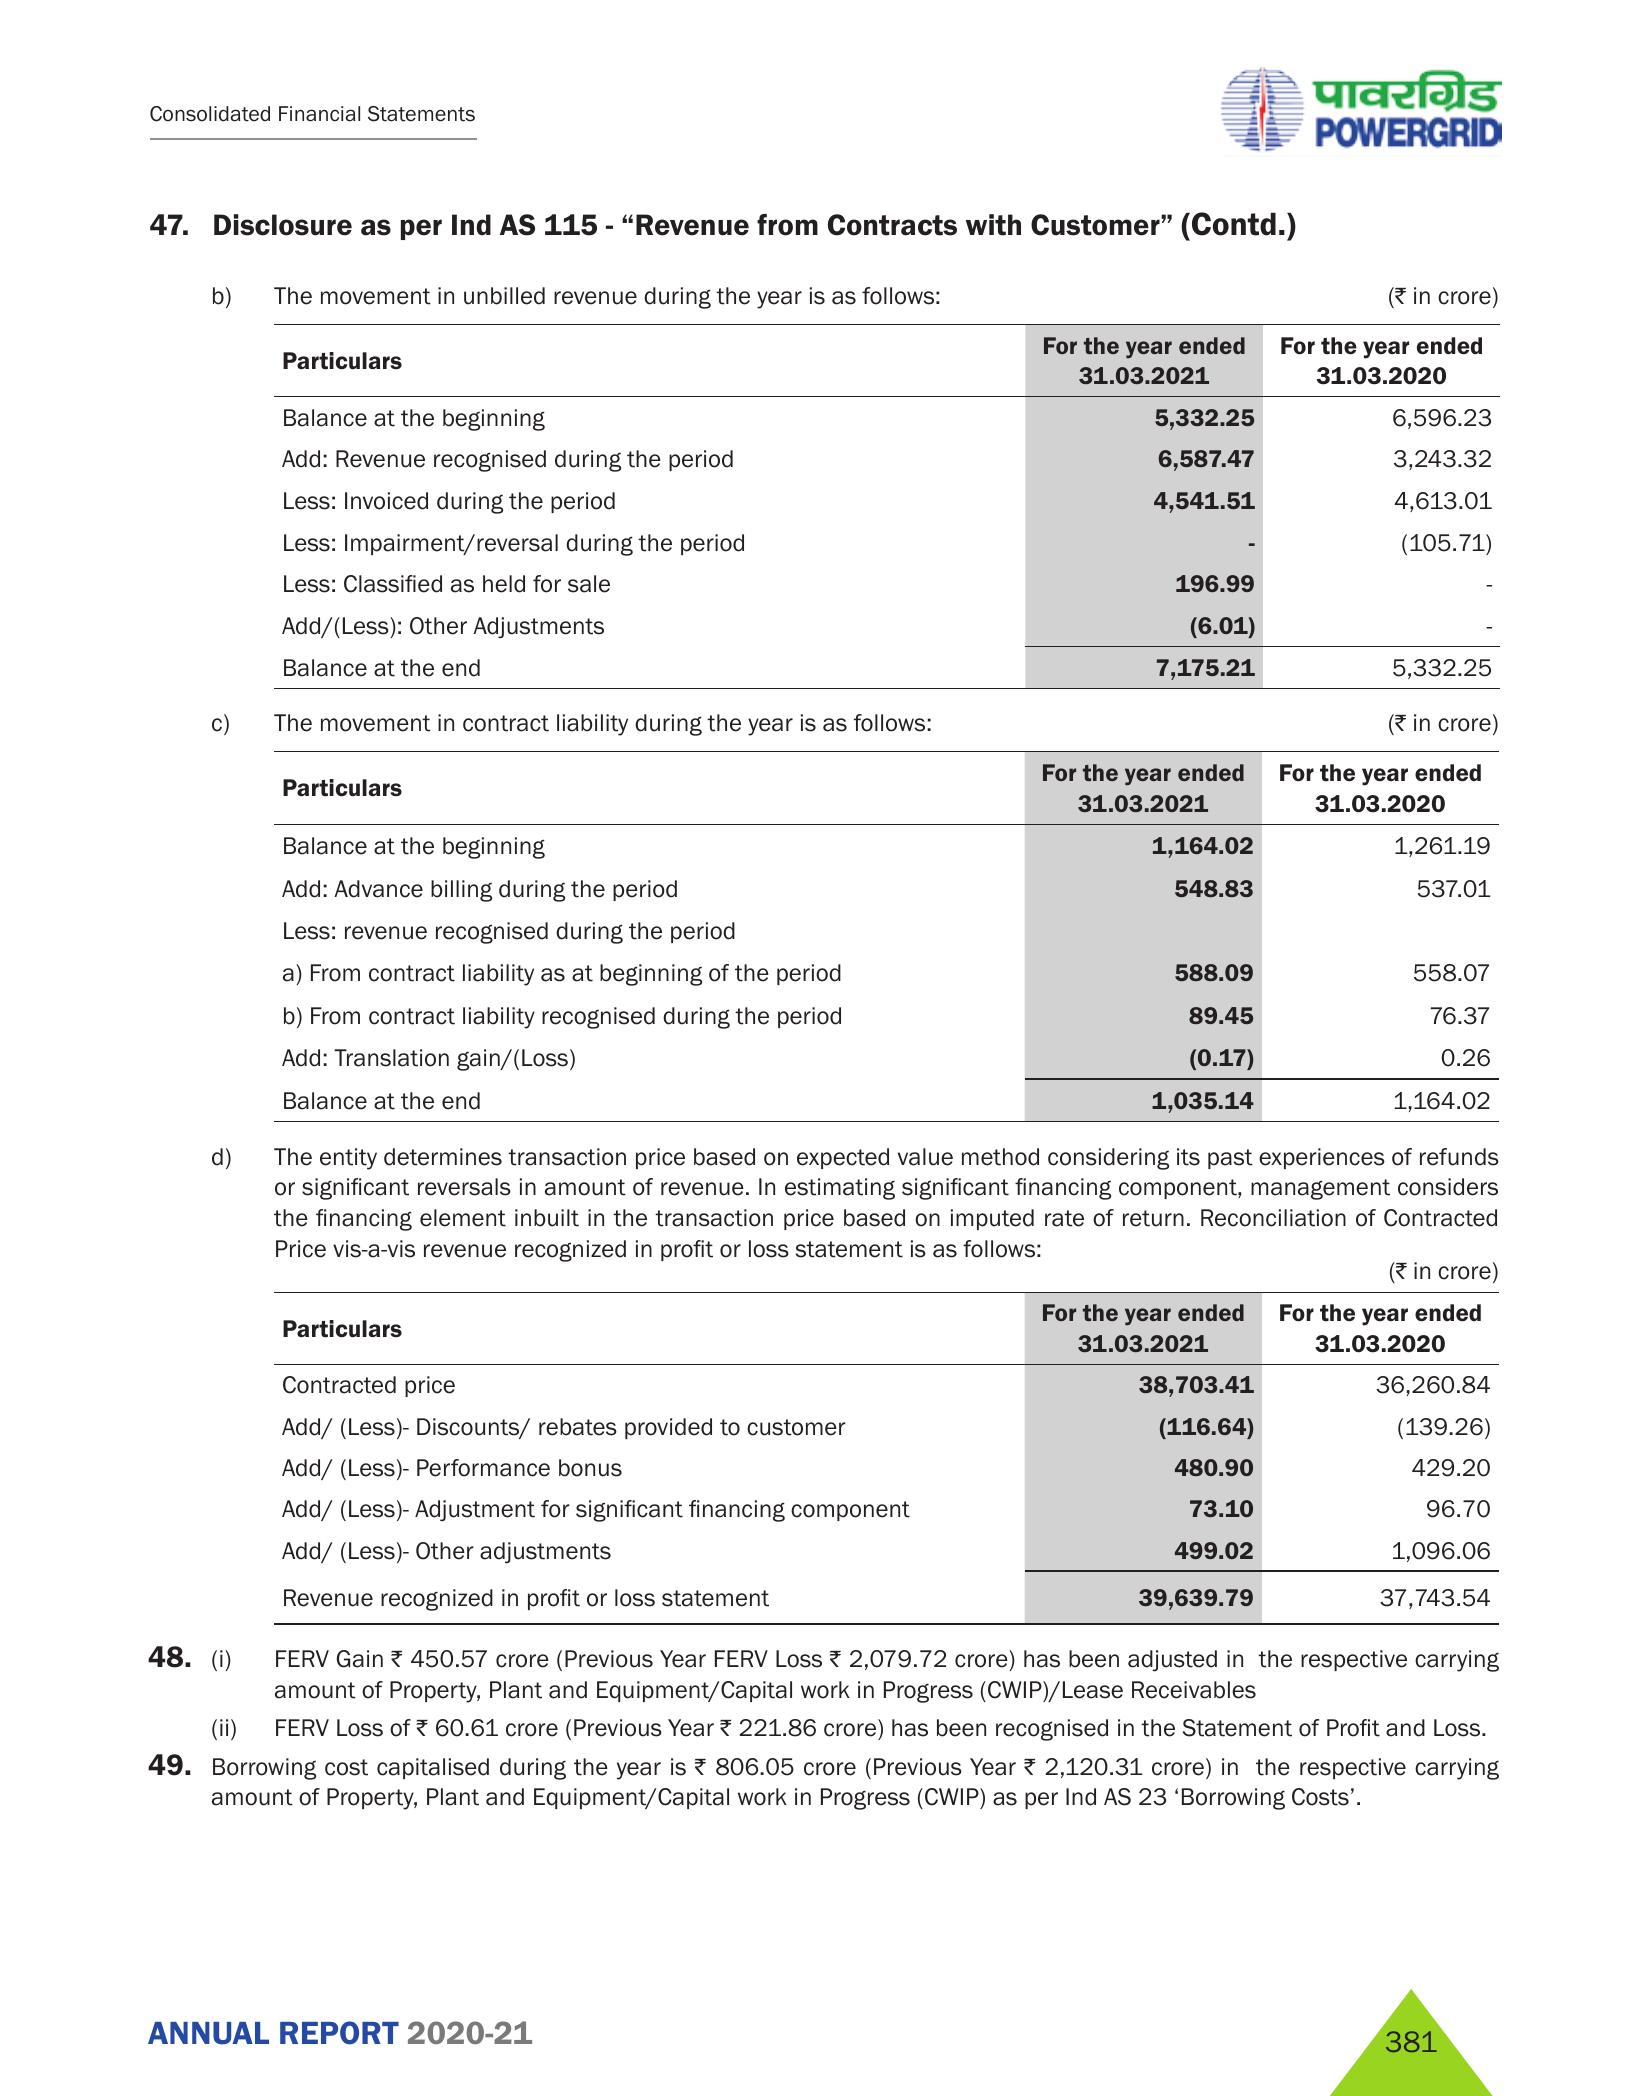Footer: (0, 1956, 1650, 2096)
Header: (0, 0, 1650, 168)
Table: (201, 755, 1521, 1125), (196, 1245, 1507, 1609), (184, 332, 1524, 682)
